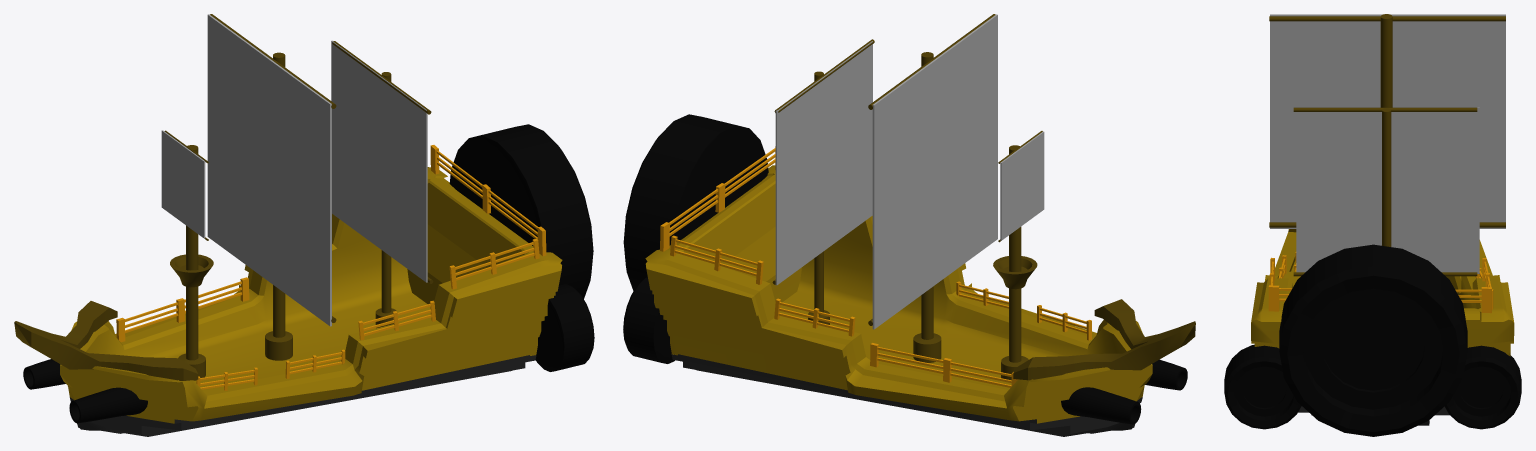
File: Ship1.fbx
The picture shows the model from 3 angles, left to right: view 1: azimuth 30°, elevation 25°; view 2: azimuth 150°, elevation 25°; view 3: azimuth 270°, elevation 25°; orthographic projection. The views are drawn at different scales.
Visible parts, largest first — view 1: pCylinder20, pPlane2, pPlane3, pPlane4; view 2: pCylinder20, pPlane2, pPlane3, pPlane4; view 3: pCylinder20, pPlane2, pPlane3.
Boxes of the visible parts, box(x1,y1,x2,y2) form: pCylinder20: box(14, 14, 594, 436); pPlane2: box(207, 14, 331, 326); pPlane3: box(331, 40, 427, 282); pPlane4: box(161, 130, 205, 238); pCylinder20: box(623, 14, 1195, 436); pPlane2: box(872, 14, 997, 329); pPlane3: box(775, 41, 872, 285); pPlane4: box(1000, 131, 1044, 240); pCylinder20: box(1224, 14, 1521, 436); pPlane2: box(1270, 14, 1505, 228); pPlane3: box(1296, 107, 1479, 273).
Size of the model in its own units: 1354 by 853 by 687.
